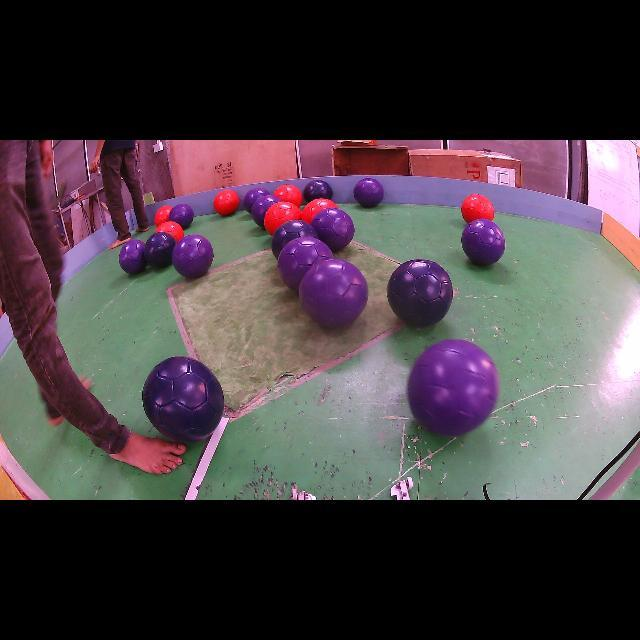B: (142, 356, 225, 442), (388, 260, 454, 326), (271, 220, 319, 259), (144, 231, 176, 268), (304, 180, 332, 202)
P: (408, 339, 499, 436), (299, 259, 369, 328), (278, 236, 332, 291), (461, 219, 505, 265), (310, 208, 355, 251), (172, 234, 214, 278), (251, 195, 281, 228), (119, 239, 146, 274), (354, 178, 384, 208), (242, 188, 270, 212), (169, 204, 194, 229)
R: (264, 201, 301, 235), (461, 194, 495, 222), (301, 199, 338, 224), (274, 185, 302, 208), (214, 190, 239, 215), (156, 221, 184, 241), (155, 205, 172, 226)
